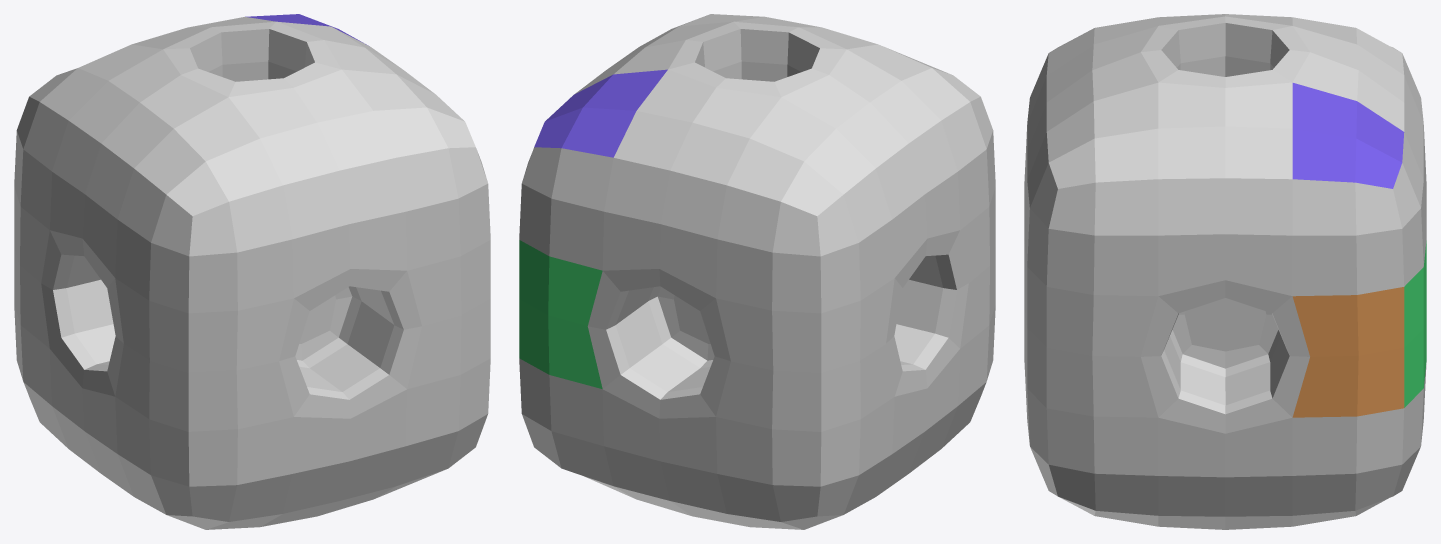
3 views of the same model, side by side, from view 1: azimuth 30°, elevation 25°; view 2: azimuth 150°, elevation 25°; view 3: azimuth 270°, elevation 25° (orthographic). The views are drawn at different scales.
Parts seen in each view (by area): view 1: Base1.003; view 2: Base1.003; view 3: Base1.003.
Part boxes in pixels (bbox=[...]): Base1.003: bbox=[14, 14, 490, 529]; Base1.003: bbox=[519, 14, 995, 529]; Base1.003: bbox=[1024, 14, 1426, 529].
Size of the model in its own units: 2 by 2.44 by 2.
